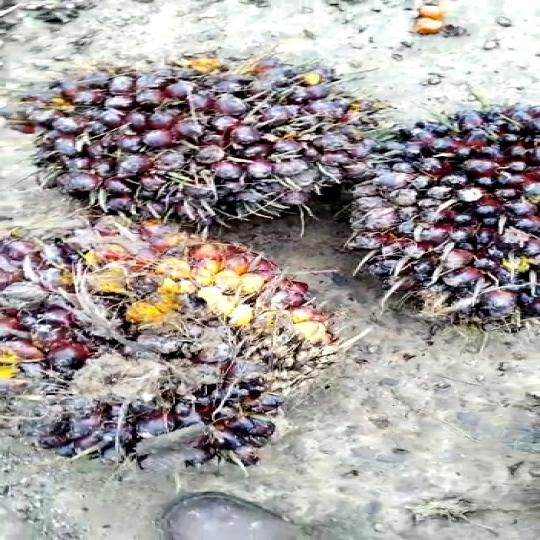kurang masak: (0, 214, 331, 497), (29, 58, 379, 224), (323, 89, 540, 334)
